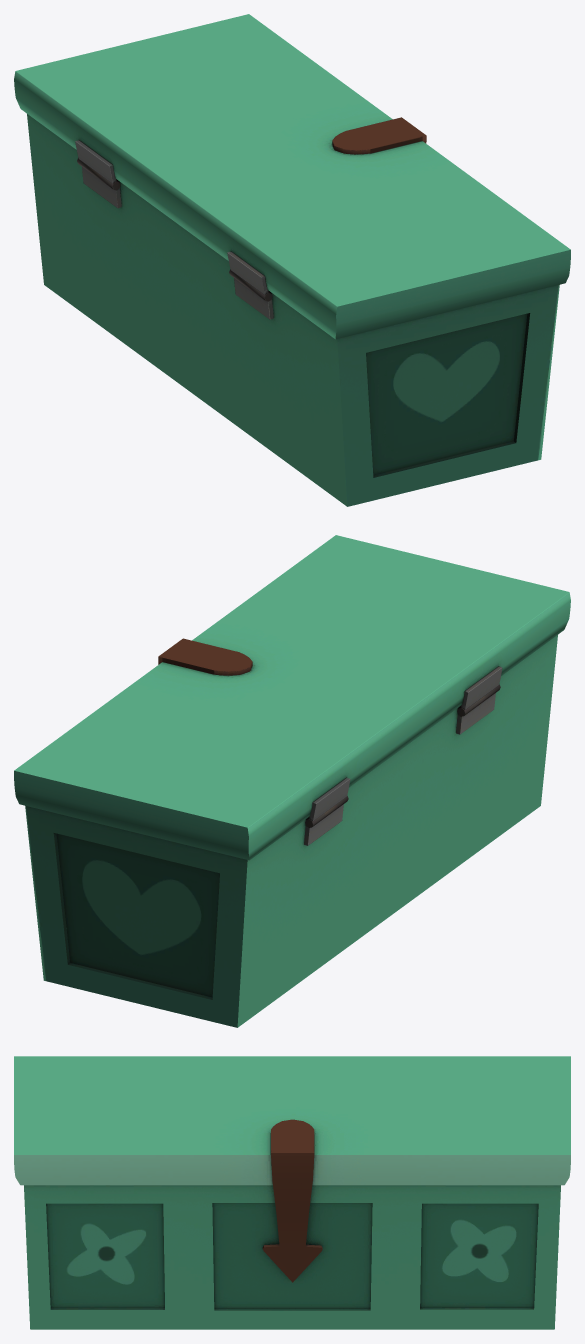
The model's file is chest.glb.
The picture shows the model from 3 angles, top to bottom: view 1: azimuth 30°, elevation 25°; view 2: azimuth 150°, elevation 25°; view 3: azimuth 270°, elevation 25°; orthographic projection. The views are drawn at different scales.
Parts seen in each view (by area): view 1: fc_b_chest.smd; view 2: fc_b_chest.smd; view 3: fc_b_chest.smd.
Boxes of the visible parts, x1,y1,x2,y2 form: fc_b_chest.smd: (14, 14, 570, 506); fc_b_chest.smd: (14, 535, 570, 1027); fc_b_chest.smd: (14, 1056, 570, 1329).
Size of the model in its own units: 0.6013 by 0.5124 by 1.38.
Materials: 1 (1 with a texture image).
